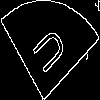U: (25, 25, 69, 82)
